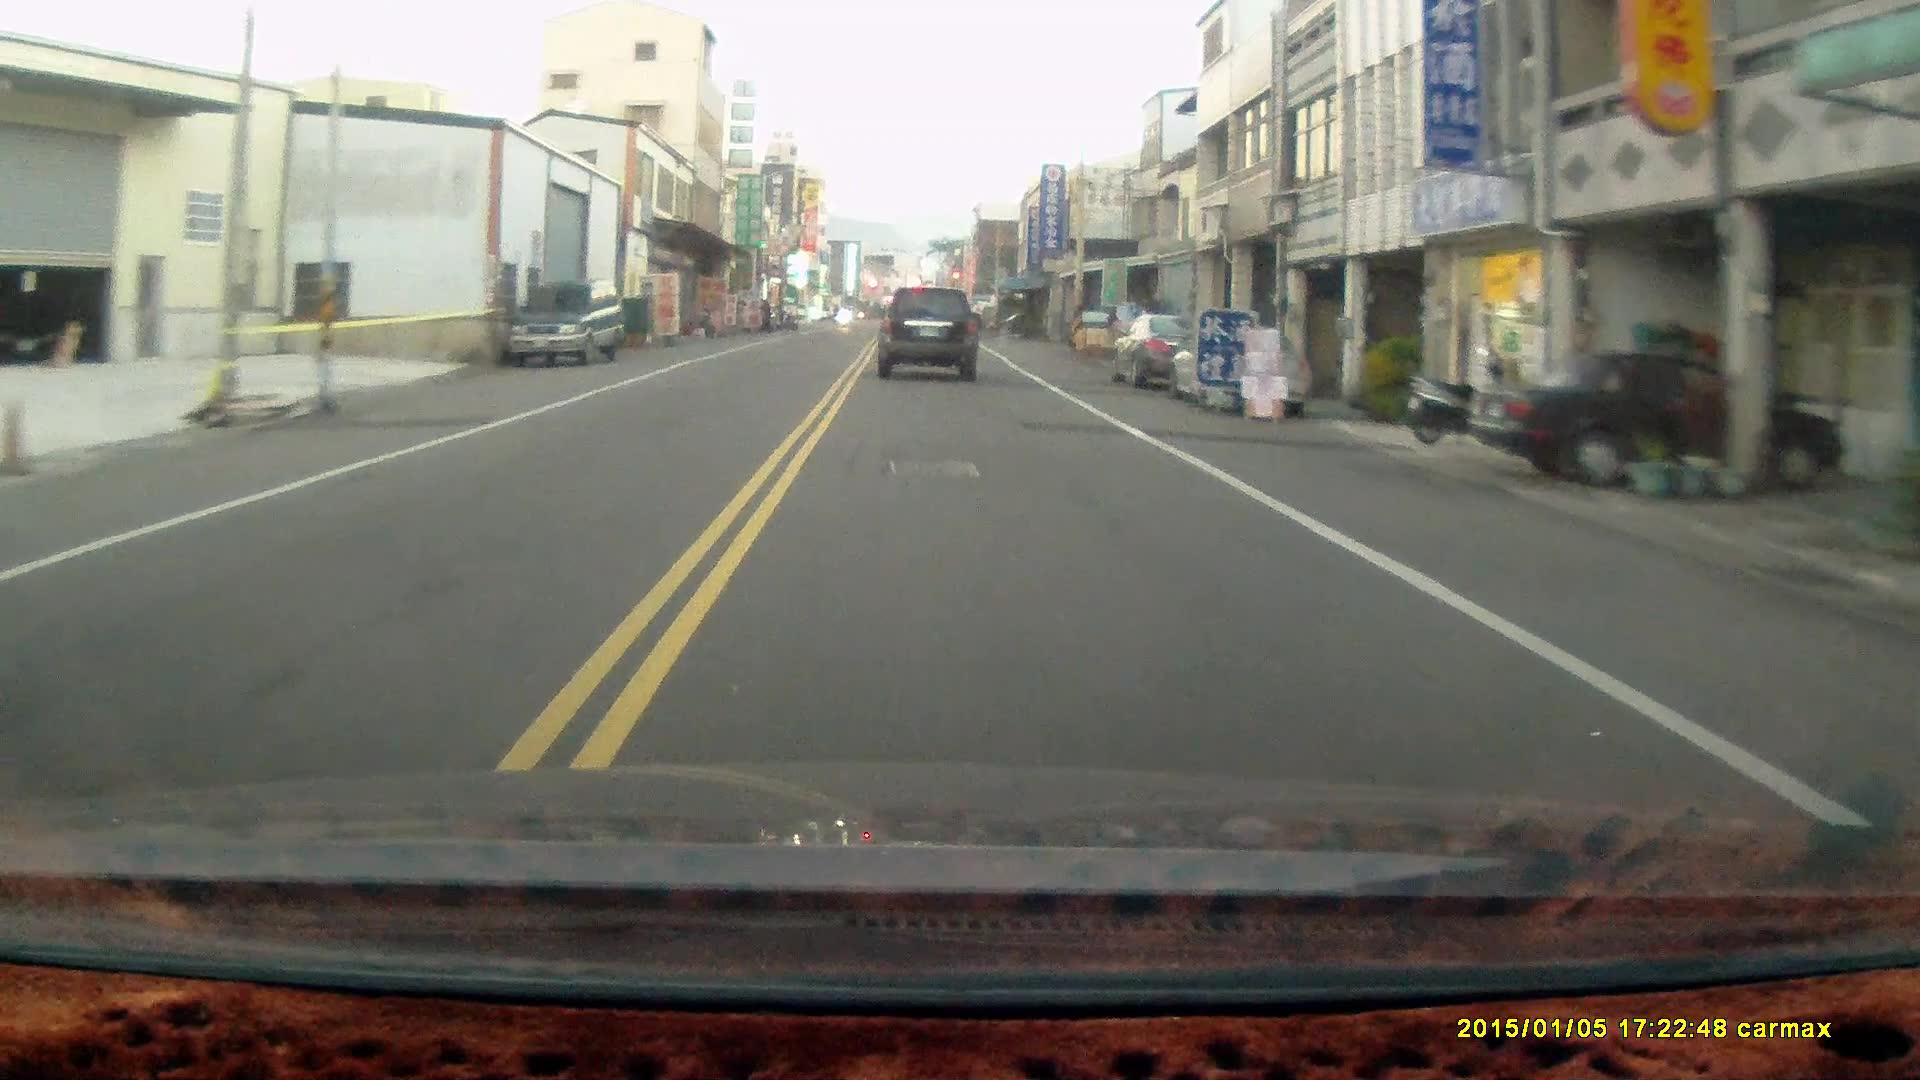vehicle: (1470, 349, 1842, 489), (1170, 326, 1316, 417), (876, 286, 981, 385), (506, 281, 626, 367), (1113, 313, 1232, 390)
